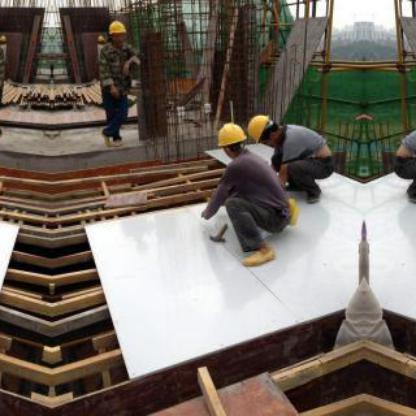Helmet: (243, 110, 279, 148), (215, 119, 247, 156), (104, 18, 130, 42)
